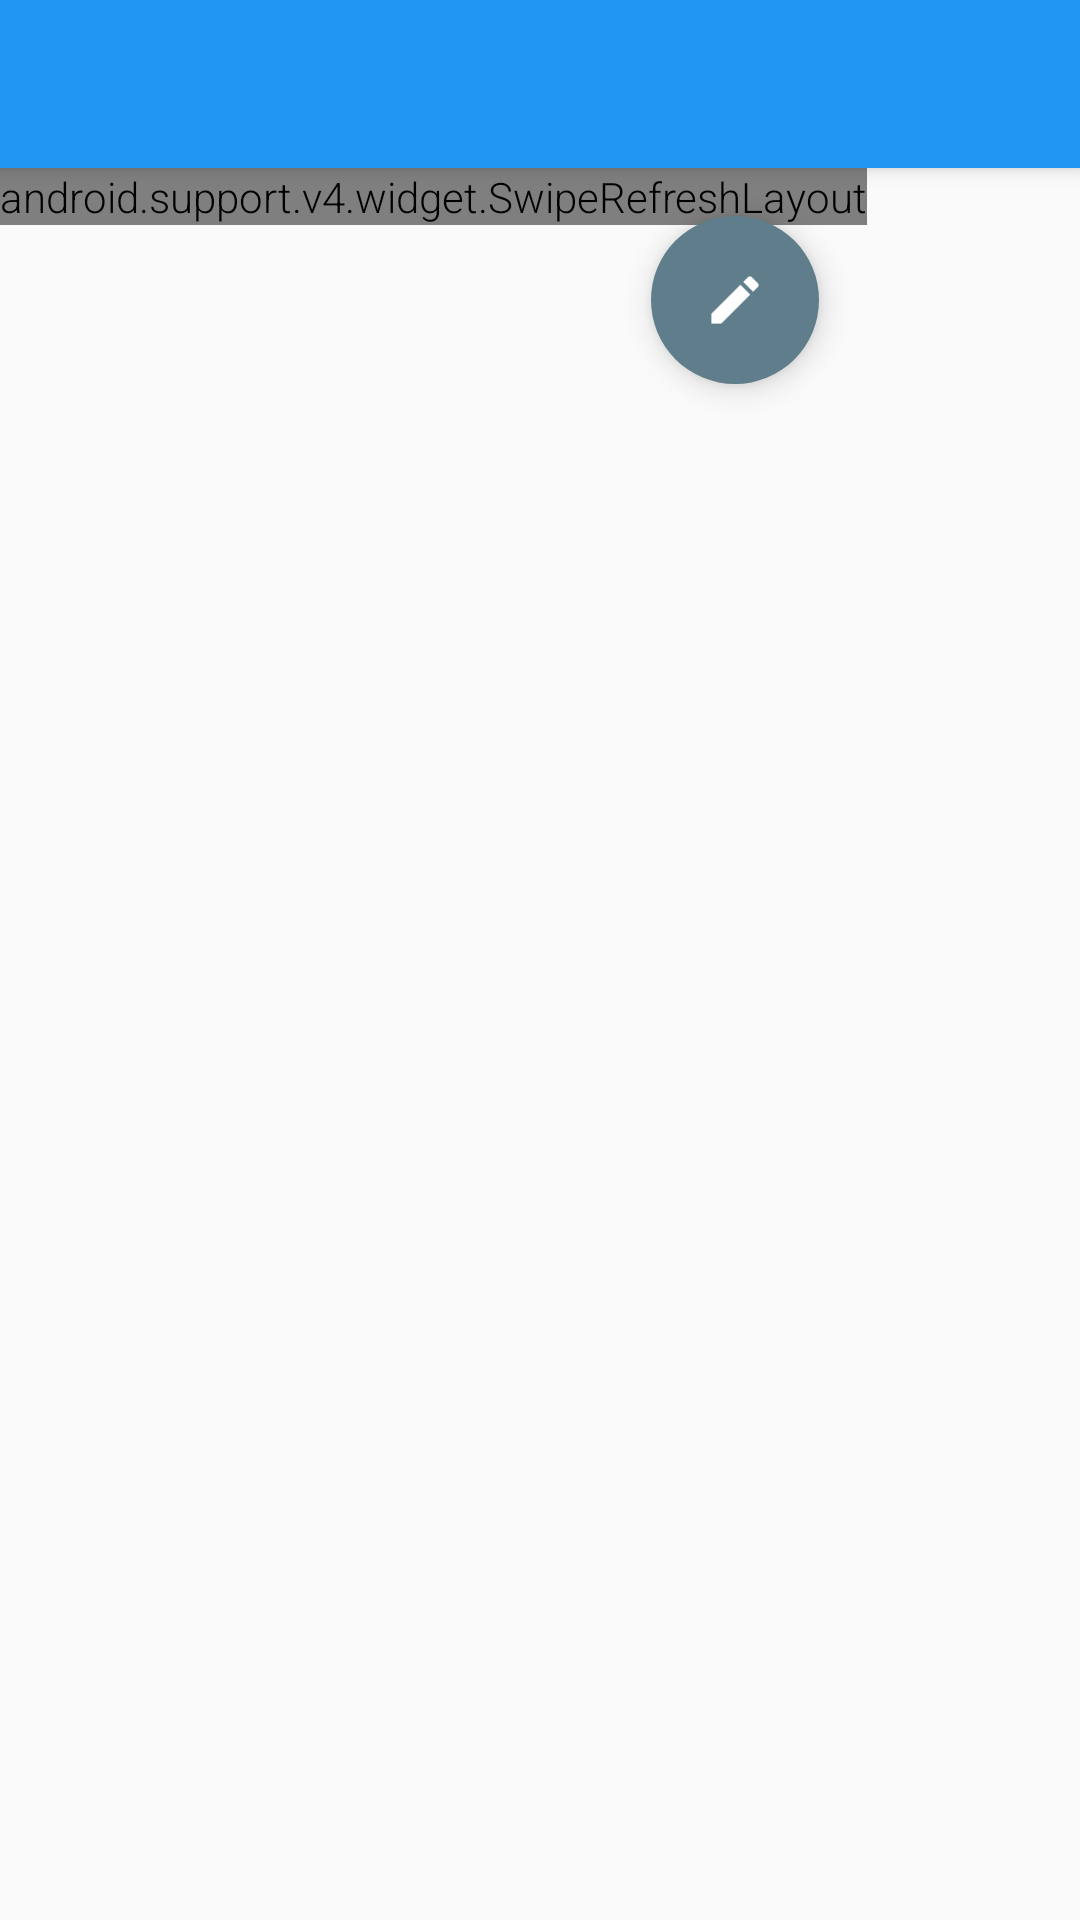

Named icons in this screenshot (1080px x 1920px) and their centers, (x=x, y=y):
edit: (x=735, y=300)
